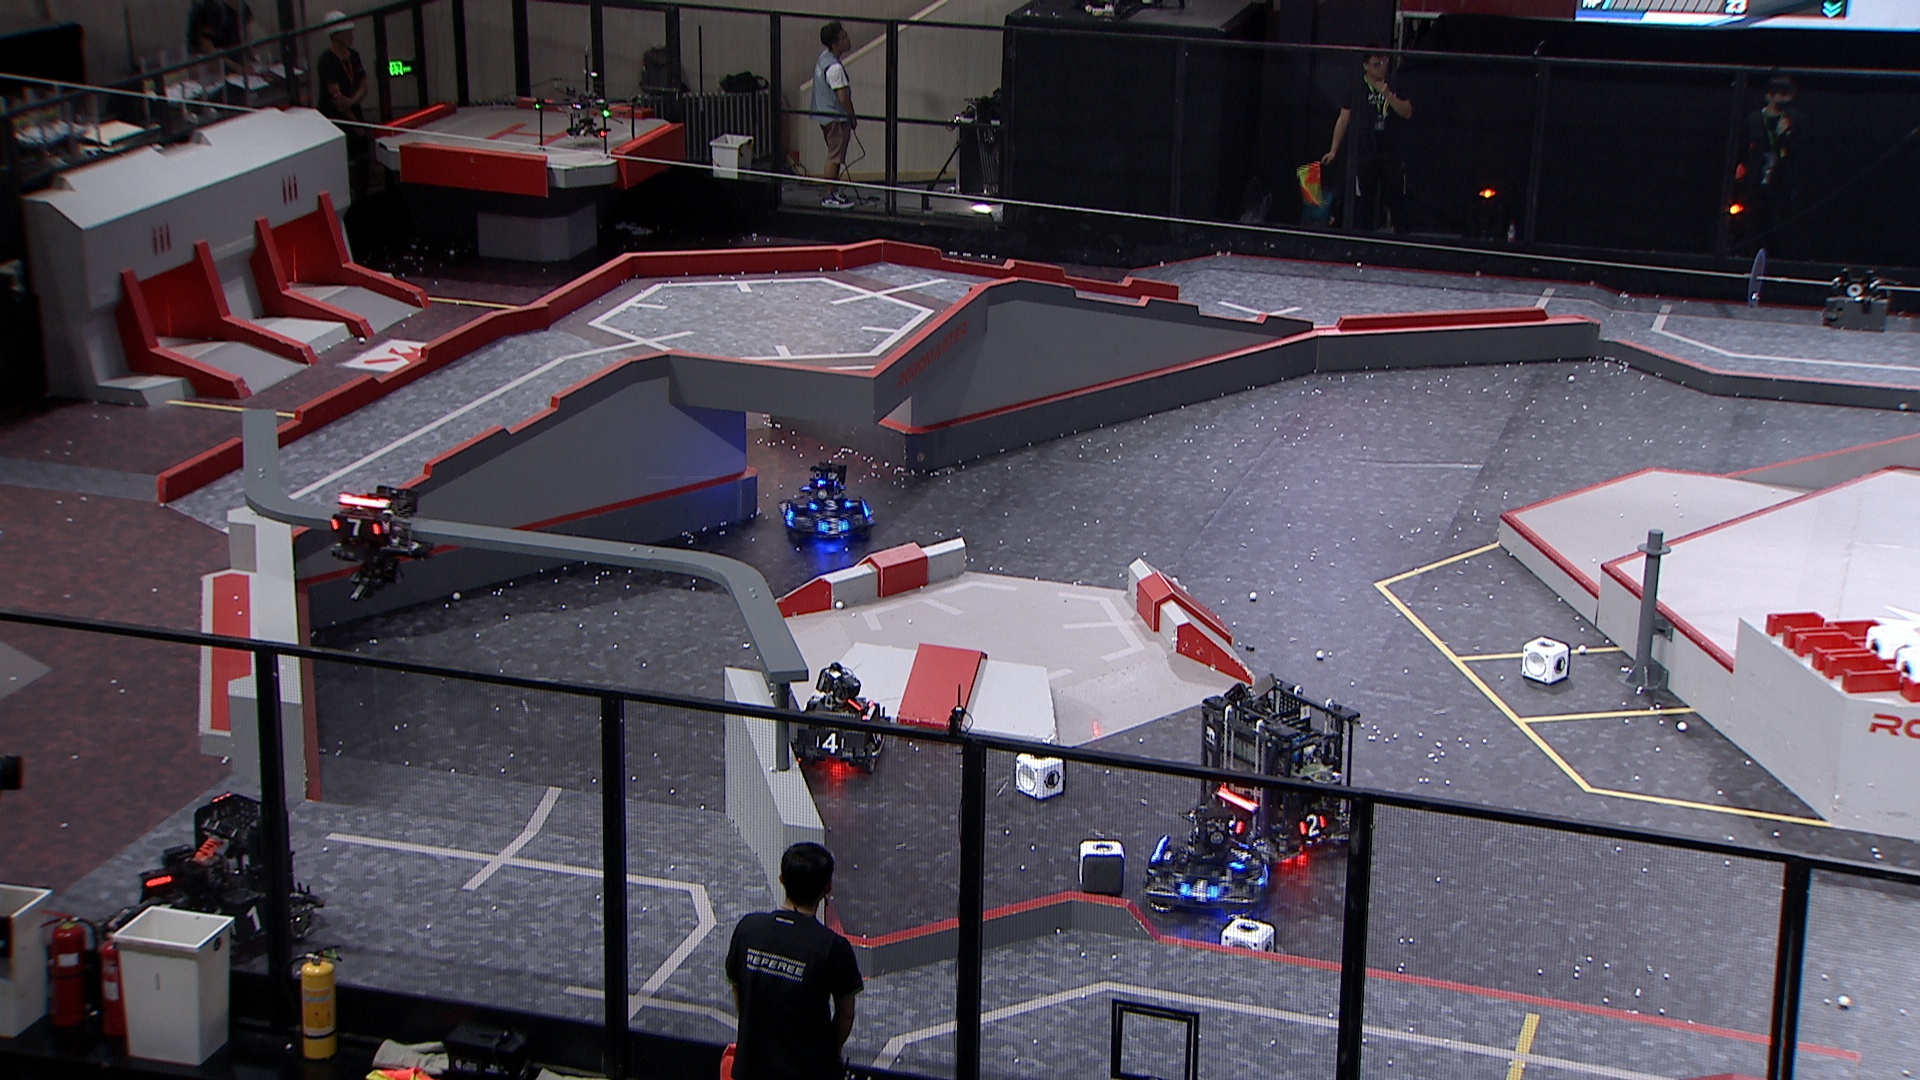armor: (330, 514, 384, 541), (1179, 876, 1222, 905), (229, 906, 266, 938), (1299, 812, 1329, 839), (814, 732, 847, 756), (814, 517, 851, 537), (1228, 844, 1251, 873), (808, 498, 852, 513), (1222, 812, 1247, 837), (781, 504, 796, 526)
car: (98, 789, 327, 971), (1182, 674, 1375, 865), (1145, 808, 1276, 920), (789, 662, 889, 775), (779, 462, 877, 545)
watcher: (328, 483, 433, 603)
